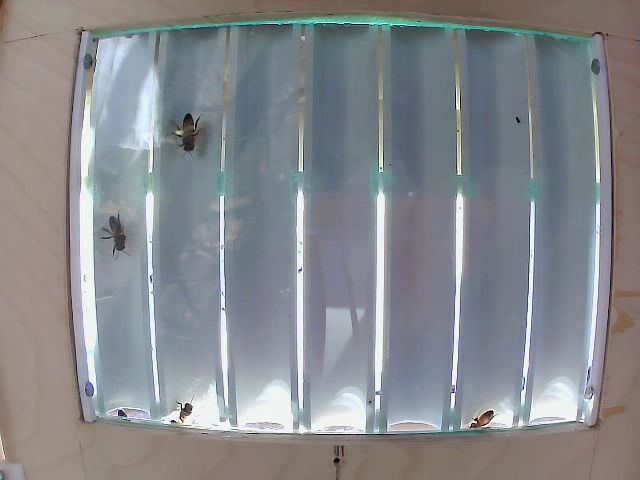bee: (95, 209, 137, 262), (176, 110, 206, 154)
